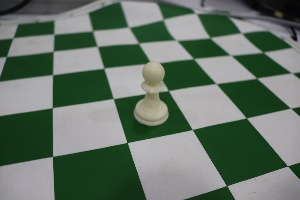white_pawn: (127, 50, 179, 134)
